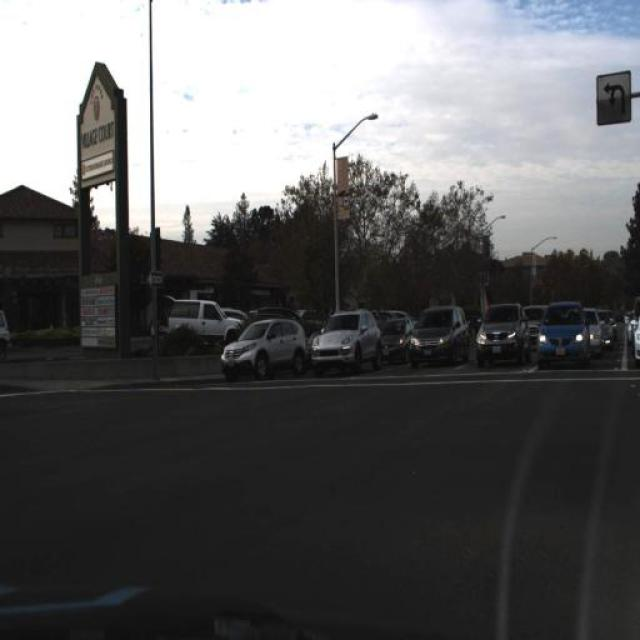car: (217, 318, 308, 383), (311, 309, 387, 373), (170, 294, 244, 346), (476, 300, 530, 369), (412, 302, 472, 364), (538, 300, 588, 368), (383, 319, 412, 366)
